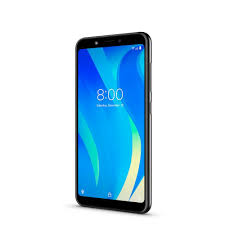vsmart: (73, 28, 151, 214)
